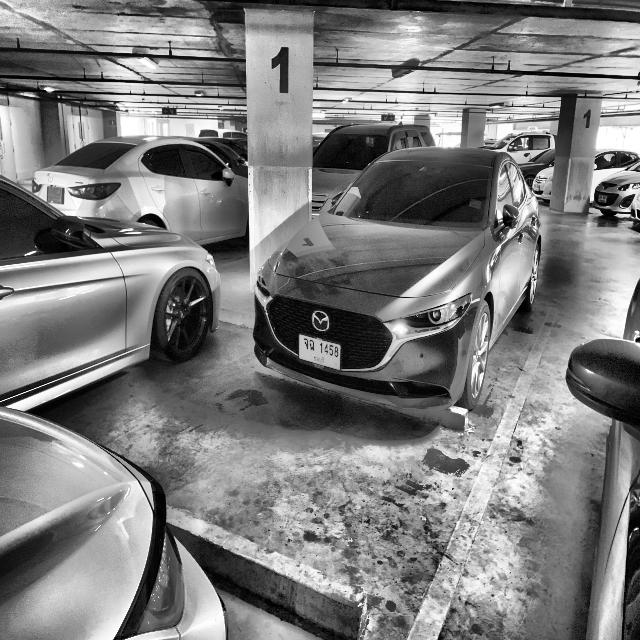license-plate: (294, 330, 342, 375), (44, 184, 66, 206)
